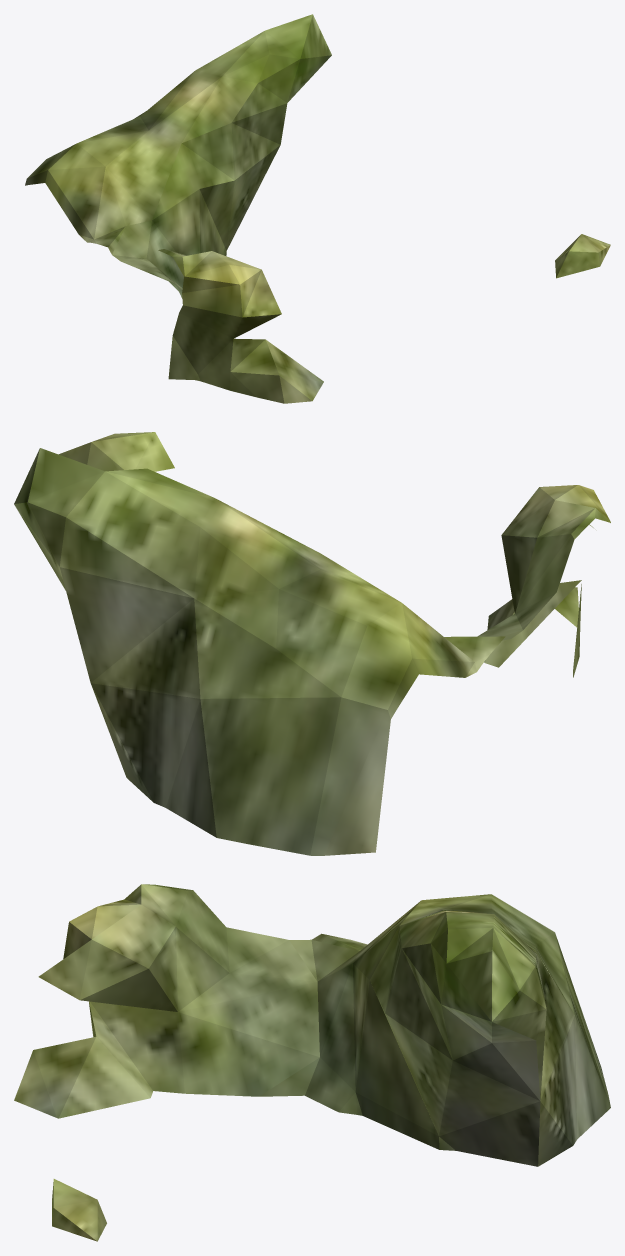
3 views of the same model, one above another, from view 1: azimuth 30°, elevation 25°; view 2: azimuth 150°, elevation 25°; view 3: azimuth 270°, elevation 25° (orthographic). The views are drawn at different scales.
Bounding box in the file's own units: 1.1 × 0.5191 × 1.05.
Materials: 1 (1 with a texture image).
